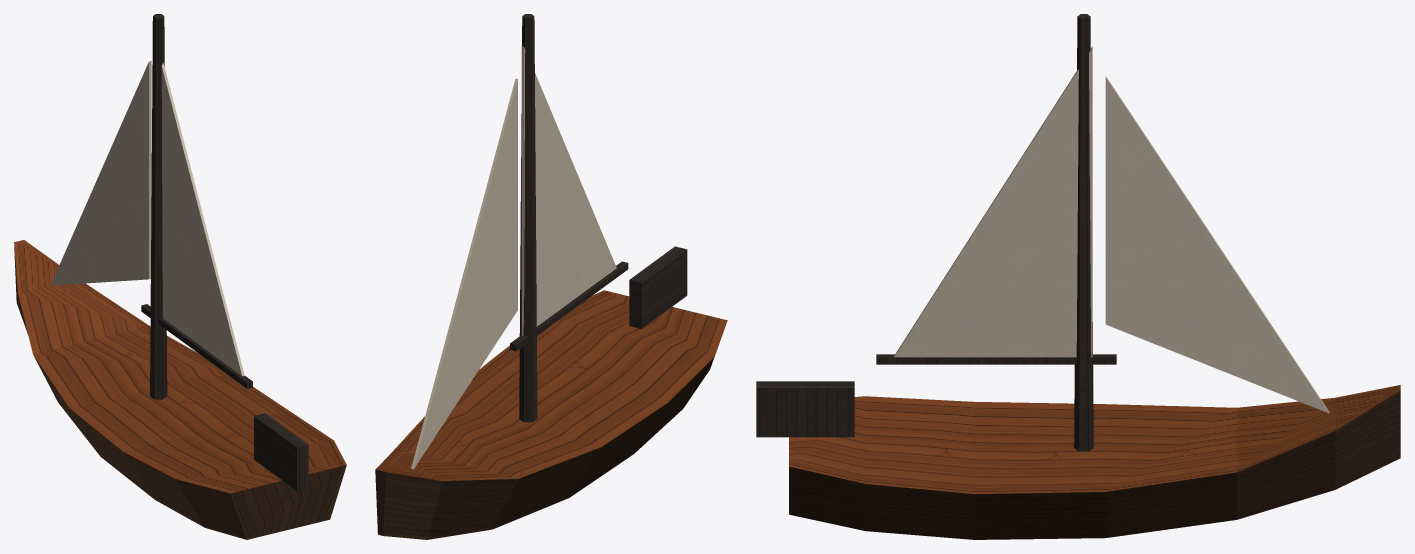
Rendered from sail_boat_01.glb.
3 renders of one model, left to right at view 1: azimuth 30°, elevation 25°; view 2: azimuth 150°, elevation 25°; view 3: azimuth 270°, elevation 25°, orthographic. The views are drawn at different scales.
Visible parts, largest first — view 1: sail_boat_01; view 2: sail_boat_01; view 3: sail_boat_01.
Boxes of the visible parts, bbox=[...] form: sail_boat_01: bbox=[14, 14, 346, 539]; sail_boat_01: bbox=[375, 14, 727, 539]; sail_boat_01: bbox=[756, 14, 1400, 539].
Size of the model in its own units: 2 by 5 by 5.9.
4 materials, 4 textured.
